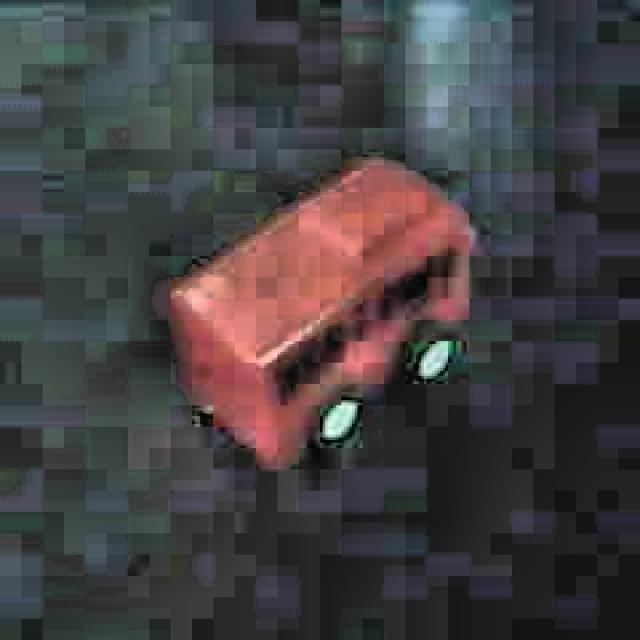bus: (156, 150, 482, 483)
